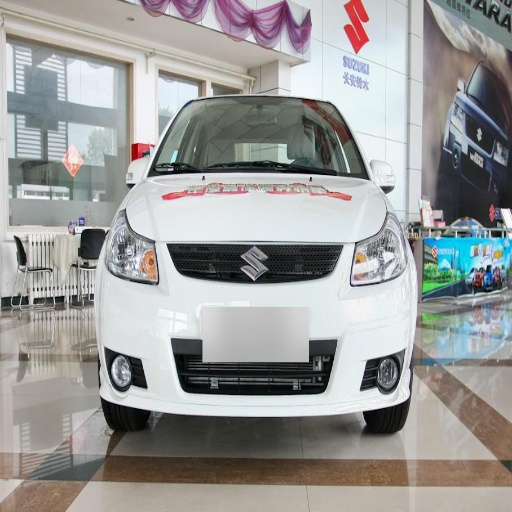front_bumper: (102, 240, 414, 414)
front_right_light: (106, 212, 160, 284)
hood: (130, 176, 387, 242)
